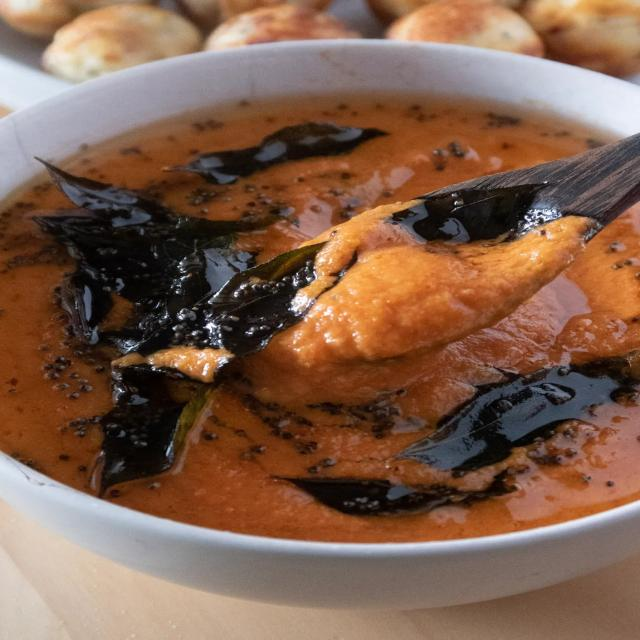kaara chutney: (0, 84, 640, 376)
